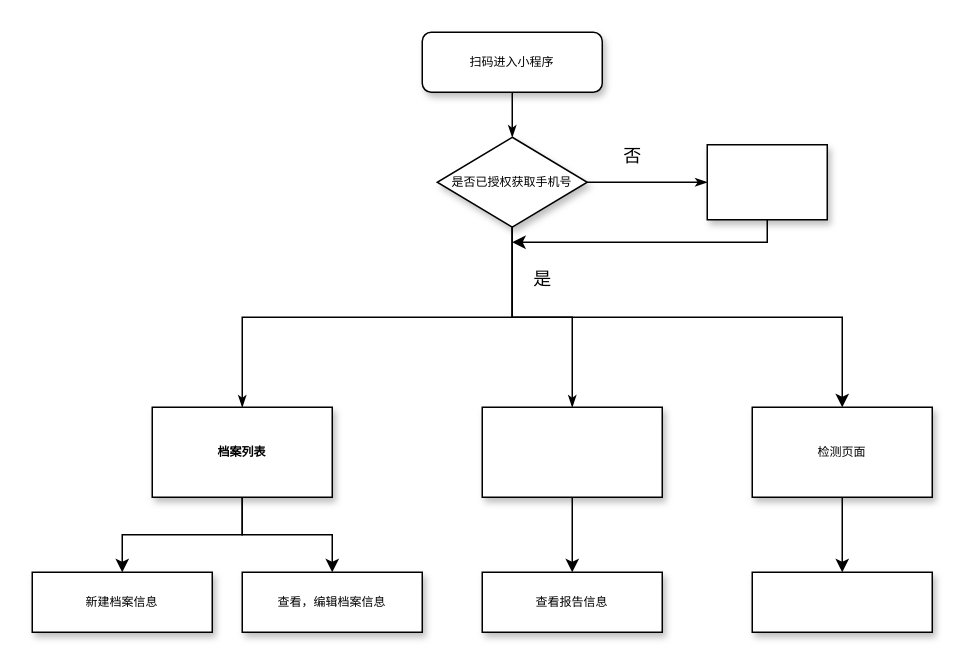
Some shapes in this 968 by 669 pixel diagram are drawn without their labels. Each missing label, with the centre of its shape:
"开始检测" goes at point 843,604.
"报告列表" goes at point 573,454.
"进行授权" goes at point 768,183.
